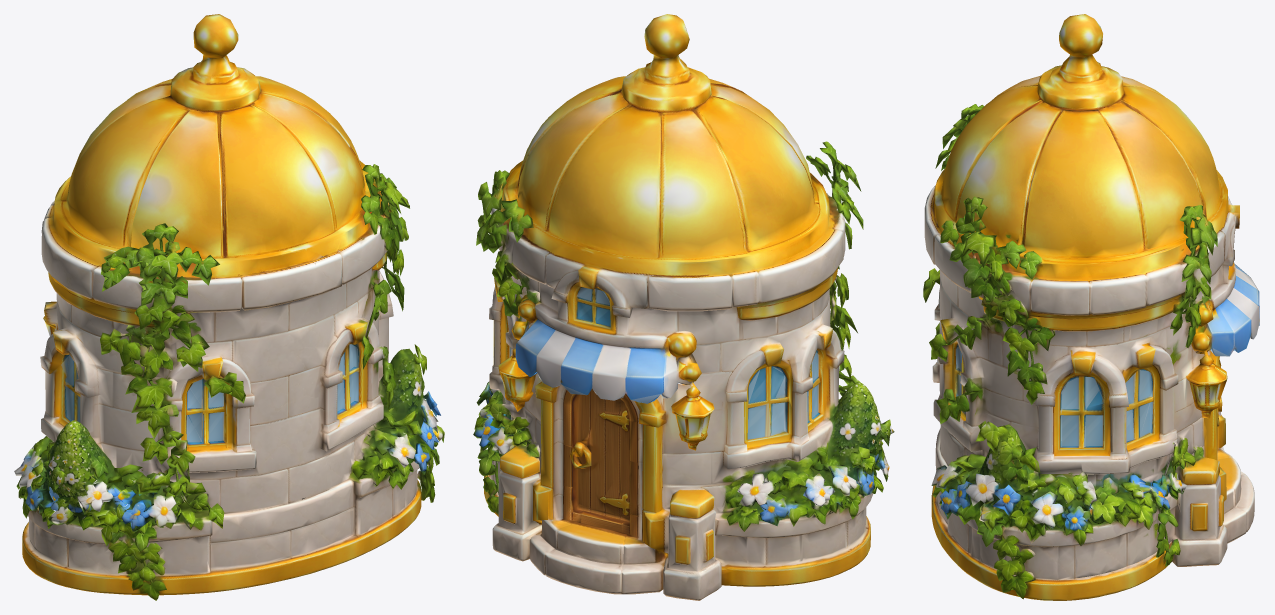
File: HaloDomeHouse_09_parts.glb
3 renders of one model, left to right at view 1: azimuth 30°, elevation 25°; view 2: azimuth 150°, elevation 25°; view 3: azimuth 270°, elevation 25°, orthographic.
Visible parts, largest first — view 1: HaloDomeHouse_09_Body_t11, HaloDomeHouse_09_Body_t01, HaloDomeHouse_09_Body_t00, HaloDomeHouse_09_Body_t10, HaloDomeHouse_09_Glass, HaloDomeHouse_09_WinPane; view 2: HaloDomeHouse_09_Body_t11, HaloDomeHouse_09_Body_t00, HaloDomeHouse_09_Body_t10, HaloDomeHouse_09_Body_t01, HaloDomeHouse_09_Awning, HaloDomeHouse_09_Door, HaloDomeHouse_09_WinPane, HaloDomeHouse_09_Glass, HaloDomeHouse_09_DoorHw; view 3: HaloDomeHouse_09_Body_t10, HaloDomeHouse_09_Body_t11, HaloDomeHouse_09_Body_t01, HaloDomeHouse_09_Body_t00, HaloDomeHouse_09_Awning, HaloDomeHouse_09_WinPane, HaloDomeHouse_09_Glass.
Part boxes in pixels (box(x1,y1,x2,y2)): HaloDomeHouse_09_Body_t11: box(14, 14, 439, 600); HaloDomeHouse_09_Body_t01: box(16, 26, 442, 595); HaloDomeHouse_09_Body_t00: box(16, 79, 444, 594); HaloDomeHouse_09_Body_t10: box(21, 77, 439, 594); HaloDomeHouse_09_Glass: box(61, 344, 358, 442); HaloDomeHouse_09_WinPane: box(61, 344, 358, 442); HaloDomeHouse_09_Body_t11: box(480, 14, 888, 586); HaloDomeHouse_09_Body_t00: box(474, 109, 889, 600); HaloDomeHouse_09_Body_t10: box(473, 96, 894, 600); HaloDomeHouse_09_Body_t01: box(475, 55, 891, 574); HaloDomeHouse_09_Awning: box(515, 287, 677, 400); HaloDomeHouse_09_Door: box(536, 382, 664, 564); HaloDomeHouse_09_WinPane: box(509, 287, 818, 439); HaloDomeHouse_09_Glass: box(509, 287, 819, 439); HaloDomeHouse_09_DoorHw: box(537, 387, 659, 562); HaloDomeHouse_09_Body_t10: box(924, 95, 1244, 596); HaloDomeHouse_09_Body_t11: box(927, 14, 1253, 592); HaloDomeHouse_09_Body_t01: box(923, 21, 1246, 600); HaloDomeHouse_09_Body_t00: box(923, 79, 1259, 580); HaloDomeHouse_09_Awning: box(1210, 250, 1259, 355); HaloDomeHouse_09_WinPane: box(956, 346, 1229, 446); HaloDomeHouse_09_Glass: box(955, 346, 1228, 447).
Bounding box in the file's own units: 16.74 × 21.05 × 12.81.
9 materials, 8 textured.
